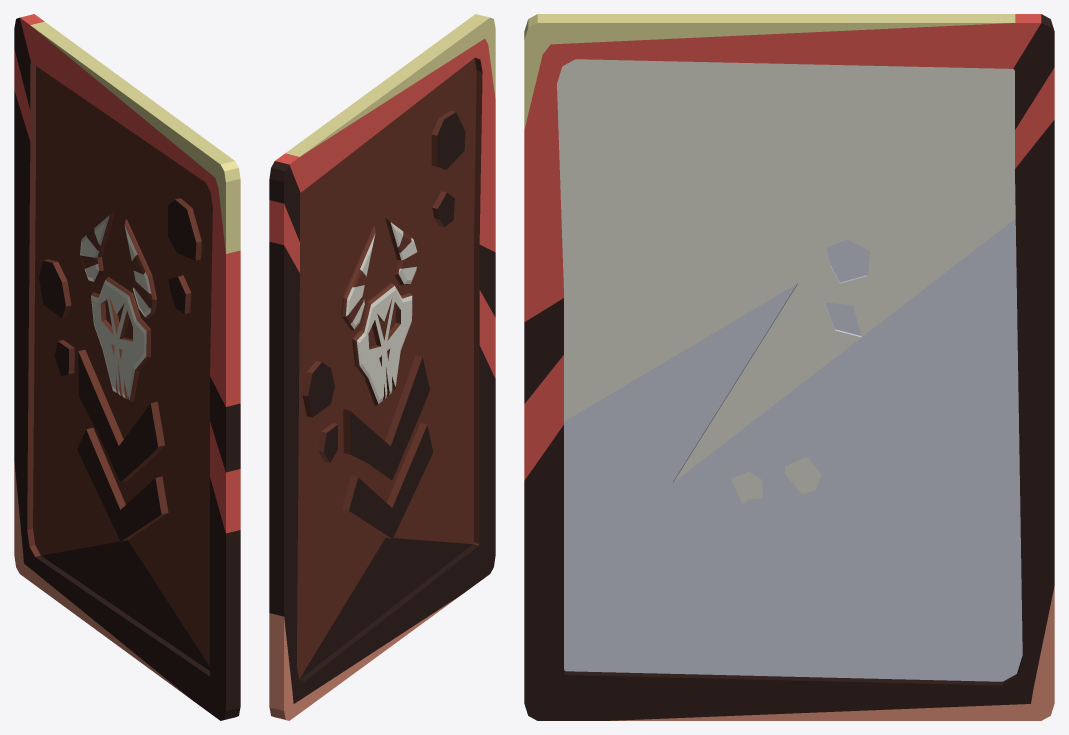
Rendered from cardBundle.fbx.
3 renders of one model, left to right at view 1: azimuth 30°, elevation 25°; view 2: azimuth 150°, elevation 25°; view 3: azimuth 270°, elevation 25°, orthographic. The views are drawn at different scales.
Parts seen in each view (by area): view 1: Плоскость; view 2: Плоскость; view 3: Плоскость.
Part boxes in pixels (x1,y1,x2,y2): Плоскость: [14, 14, 240, 720]; Плоскость: [269, 14, 495, 720]; Плоскость: [524, 14, 1054, 720].
Size of the model in its own units: 8.62 by 290 by 200.
